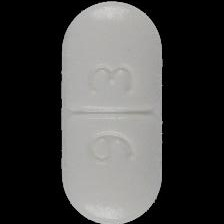76237-137: (0, 0, 224, 224)
